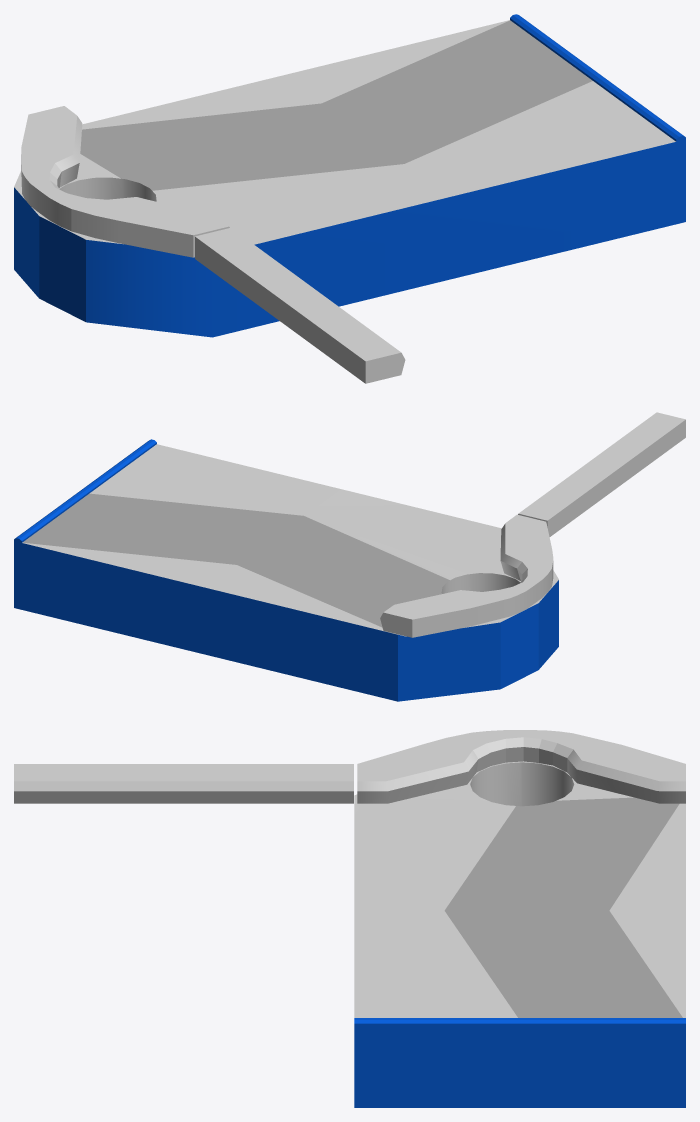
File: bilardo yolu delikler2.fbx
3 views of the same model, one above another, from view 1: azimuth 30°, elevation 25°; view 2: azimuth 150°, elevation 25°; view 3: azimuth 270°, elevation 25° (orthographic). The views are drawn at different scales.
Parts seen in each view (by area): view 1: Box046, polySurface1, polySurface2; view 2: Box046, polySurface1, polySurface2; view 3: Box046, polySurface1, polySurface2.
Part boxes in pixels (box(x1,y1,x2,y2)): Box046: box(14, 14, 685, 337); polySurface1: box(21, 106, 229, 257); polySurface2: box(195, 227, 405, 383); Box046: box(14, 439, 558, 701); polySurface1: box(380, 514, 553, 637); polySurface2: box(518, 412, 685, 536); Box046: box(354, 761, 685, 1107); polySurface1: box(357, 730, 685, 803); polySurface2: box(14, 764, 353, 803).
Size of the model in its own units: 278 by 49.73 by 288.
